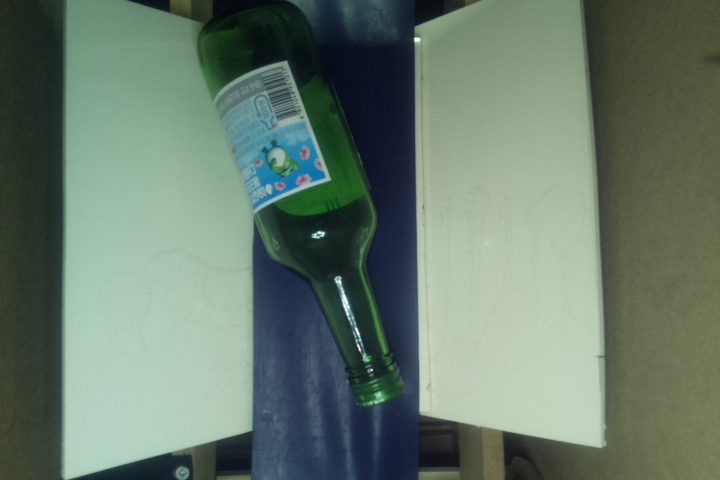soju: (195, 1, 417, 410)
